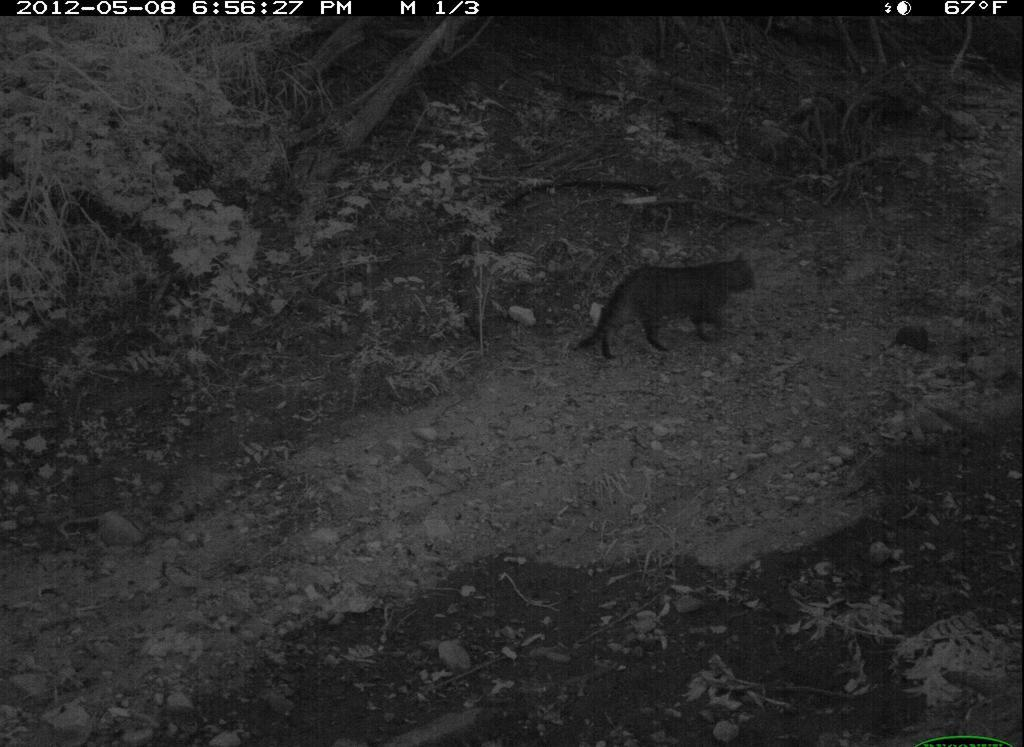cat: (561, 239, 767, 372)
